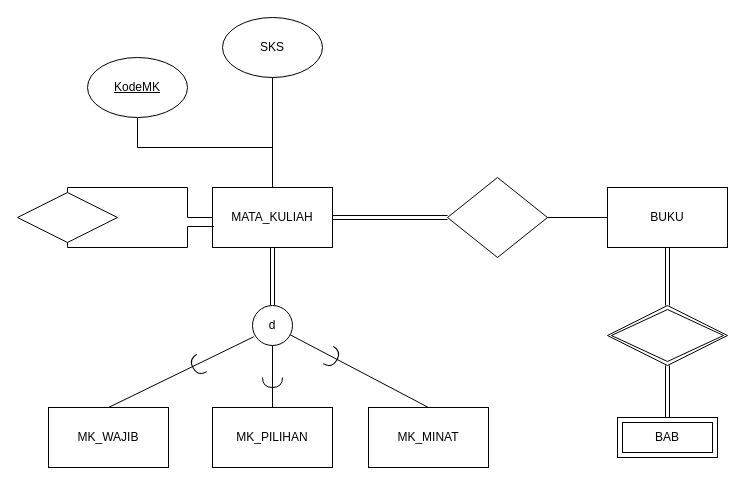
The diagram is 745 pixels wide and 485 high, and some of its shapes have lost their labels. Each missing label, with the centre of its shape:
memiliki: point 497,217
prasyarat: point 67,217
Relationship: point 667,335
